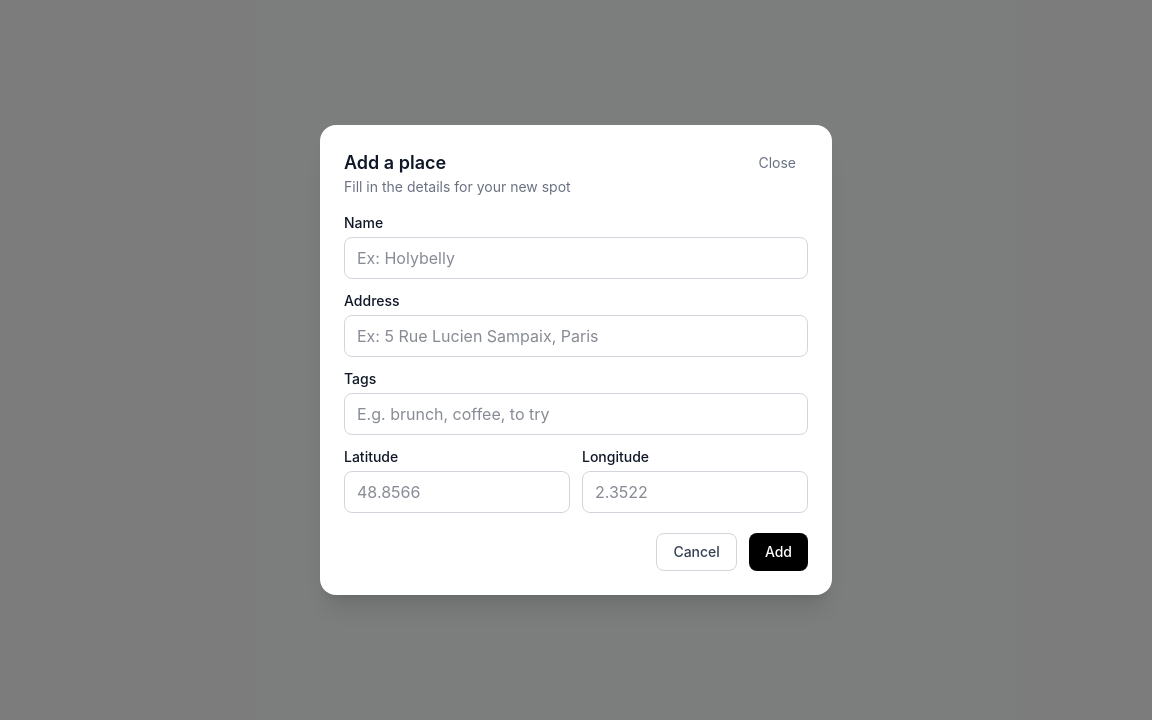
Scenario: AddPlaceModal › fills the form from an address suggestion
The image size is (1152, 720).
Type "hol" into the field labelled "Address" at (576, 336), box [344,315,808,357]
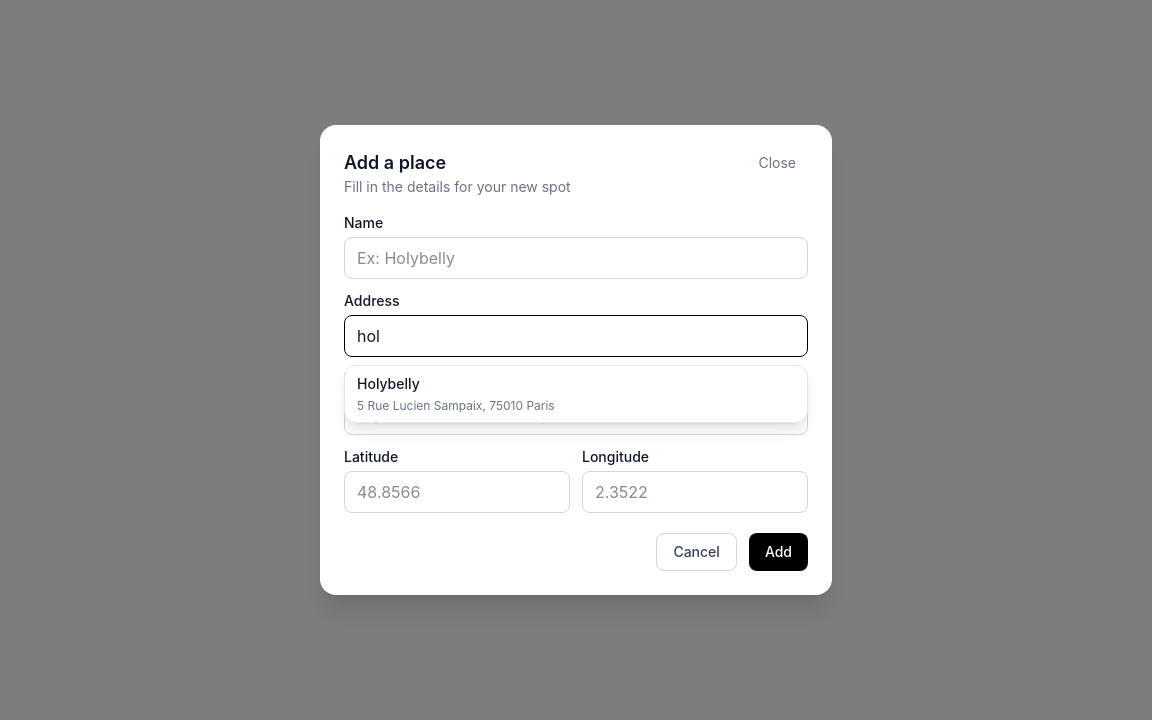
Click the button "Holybelly 5 Rue Lucien Sampaix, 75010 Paris" at (388, 384), box [345,366,807,422]
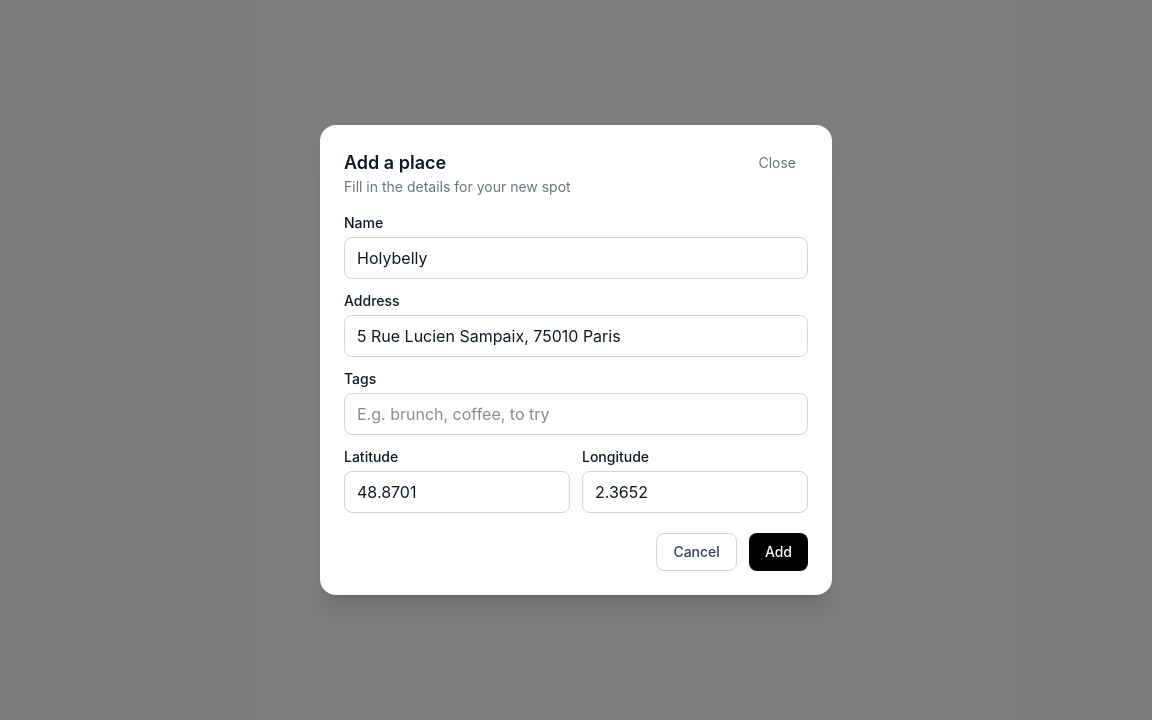
Expected: the field labelled "Name" holds "Holybelly", [344,237,808,279]
Expected: the field labelled "Address" holds "5 Rue Lucien Sampaix, 75010 Paris", [344,315,808,357]
Expected: the number field labelled "Latitude" holds "48.8701", [344,471,570,513]
